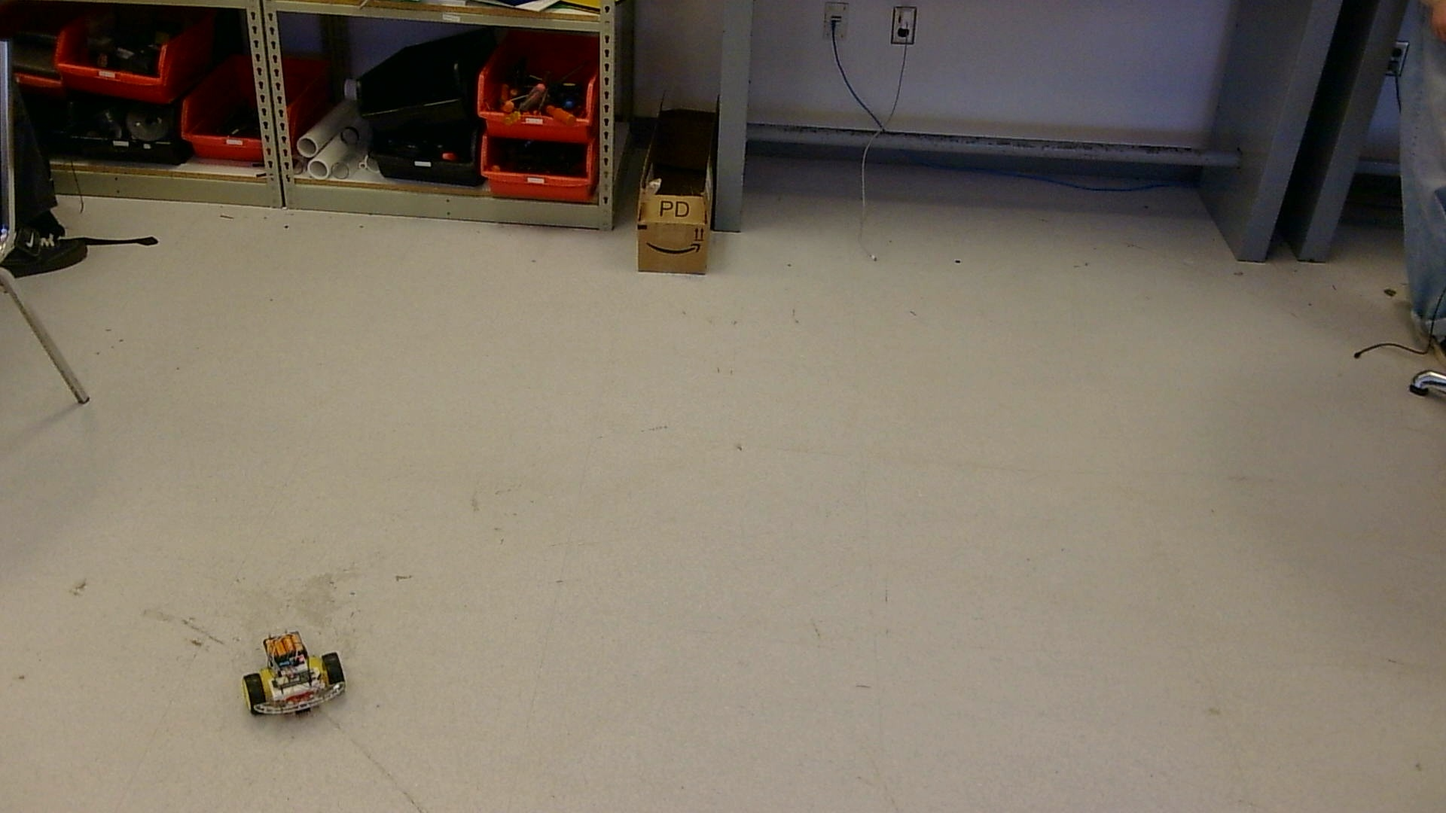robot: (243, 631, 343, 714)
